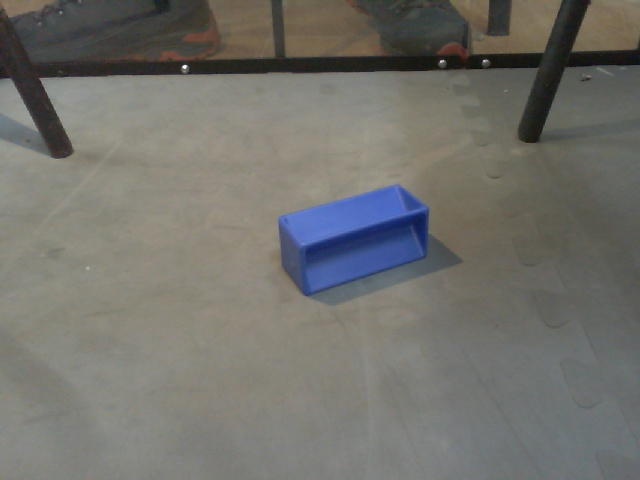BlueSample: (276, 183, 433, 298)
